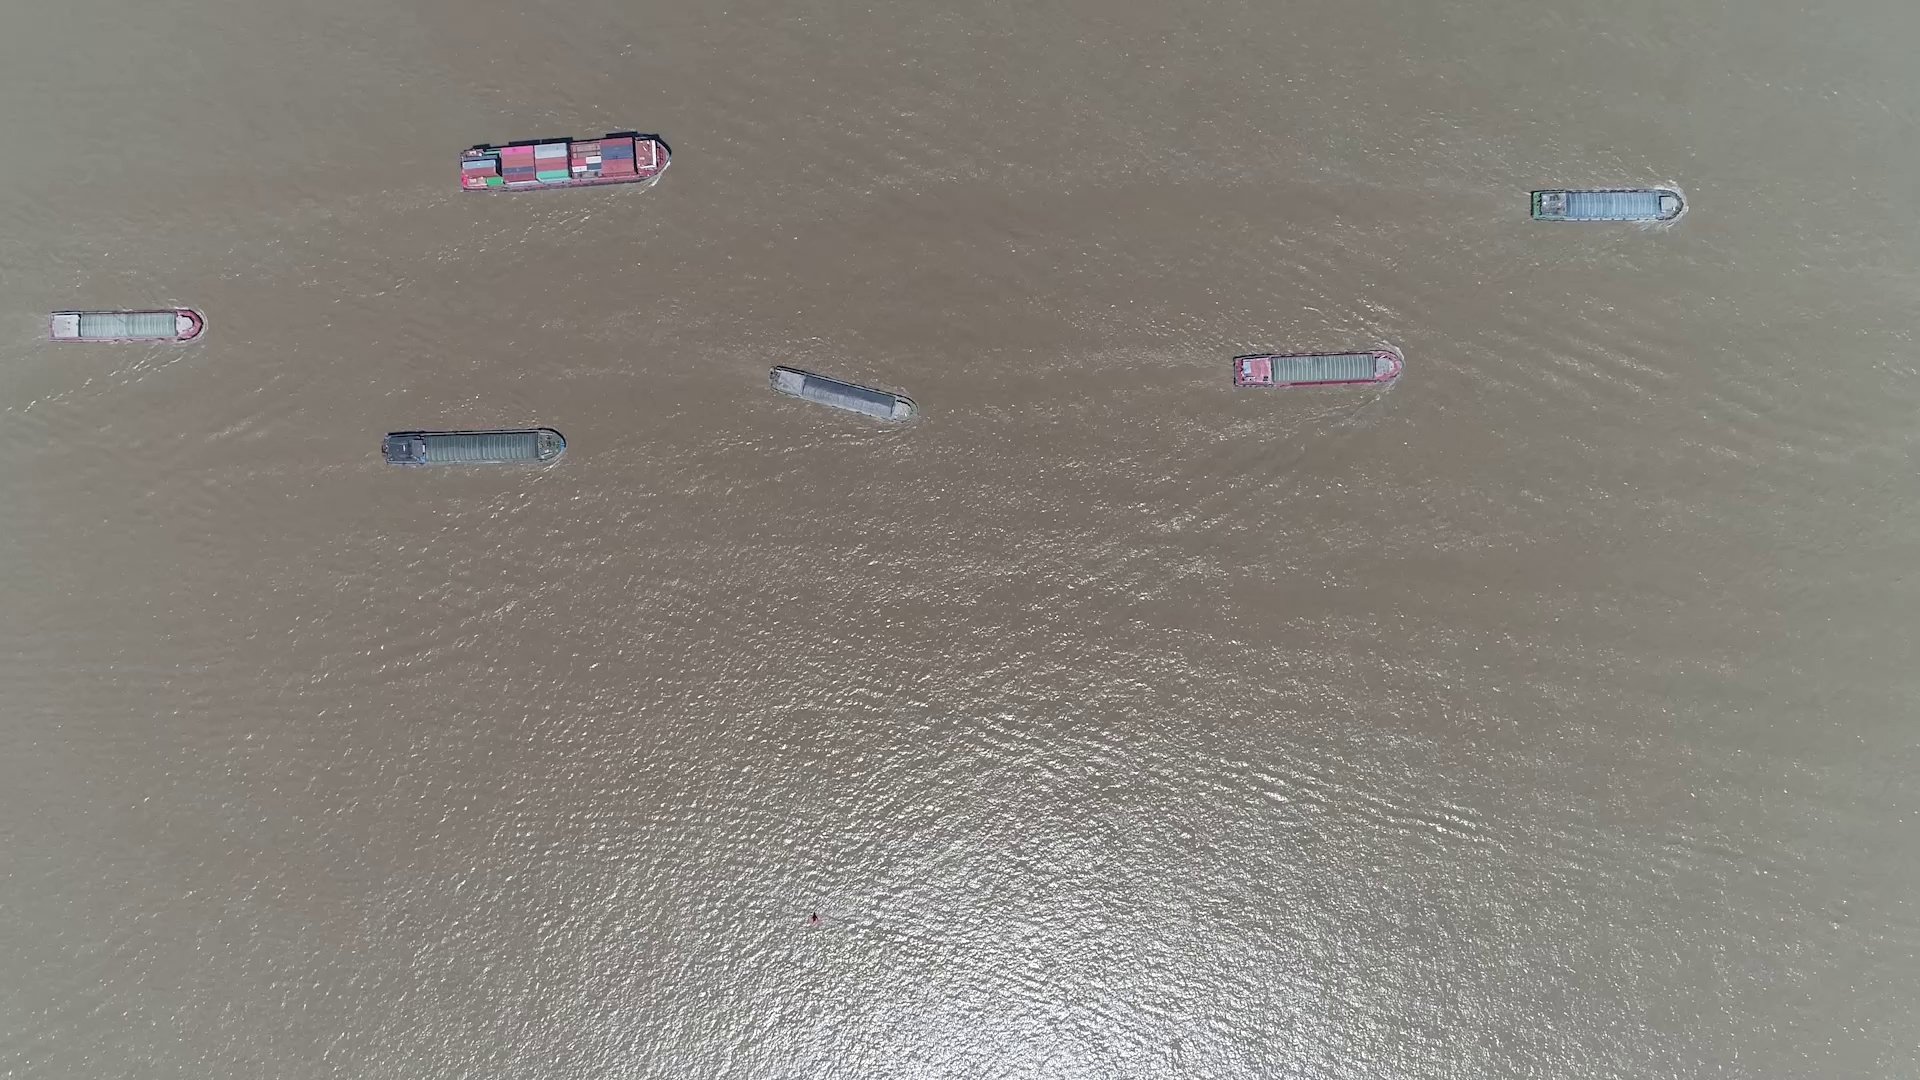ship: (459, 136, 670, 193), (767, 365, 914, 422), (382, 429, 562, 467), (1232, 349, 1403, 389), (45, 309, 200, 342), (1528, 189, 1683, 222)
